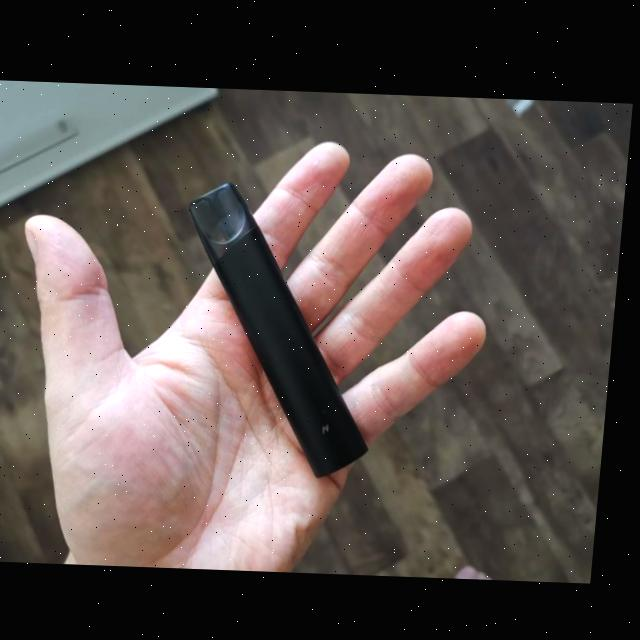vape: (172, 179, 395, 478)
